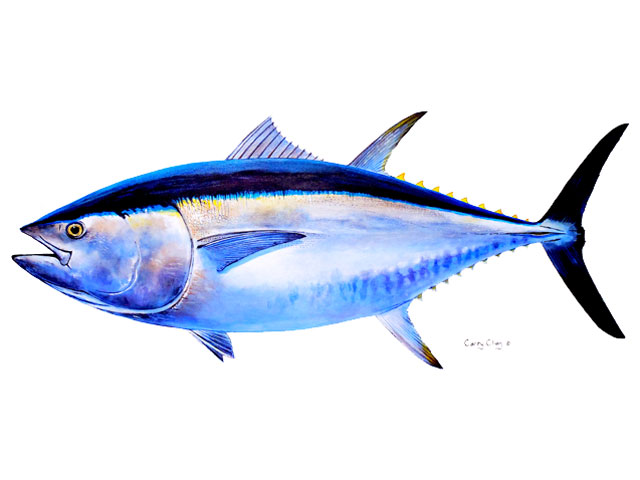Bluefina Tuna: (9, 109, 631, 370)
